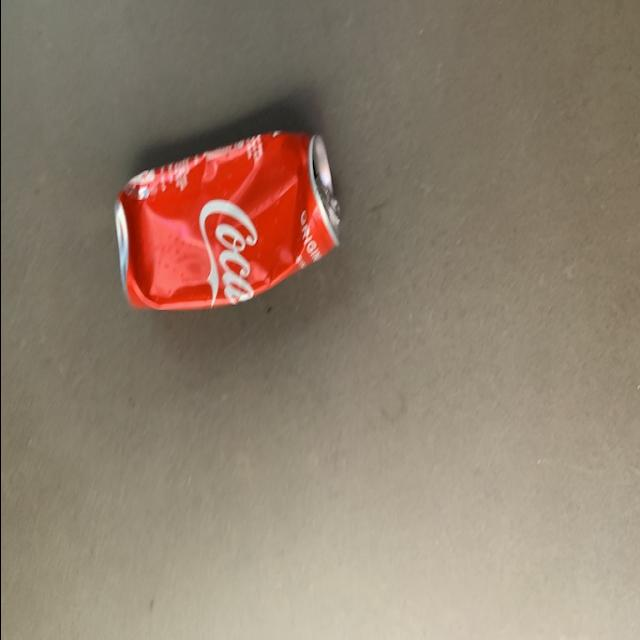Aluminum Can: (108, 115, 343, 320)
